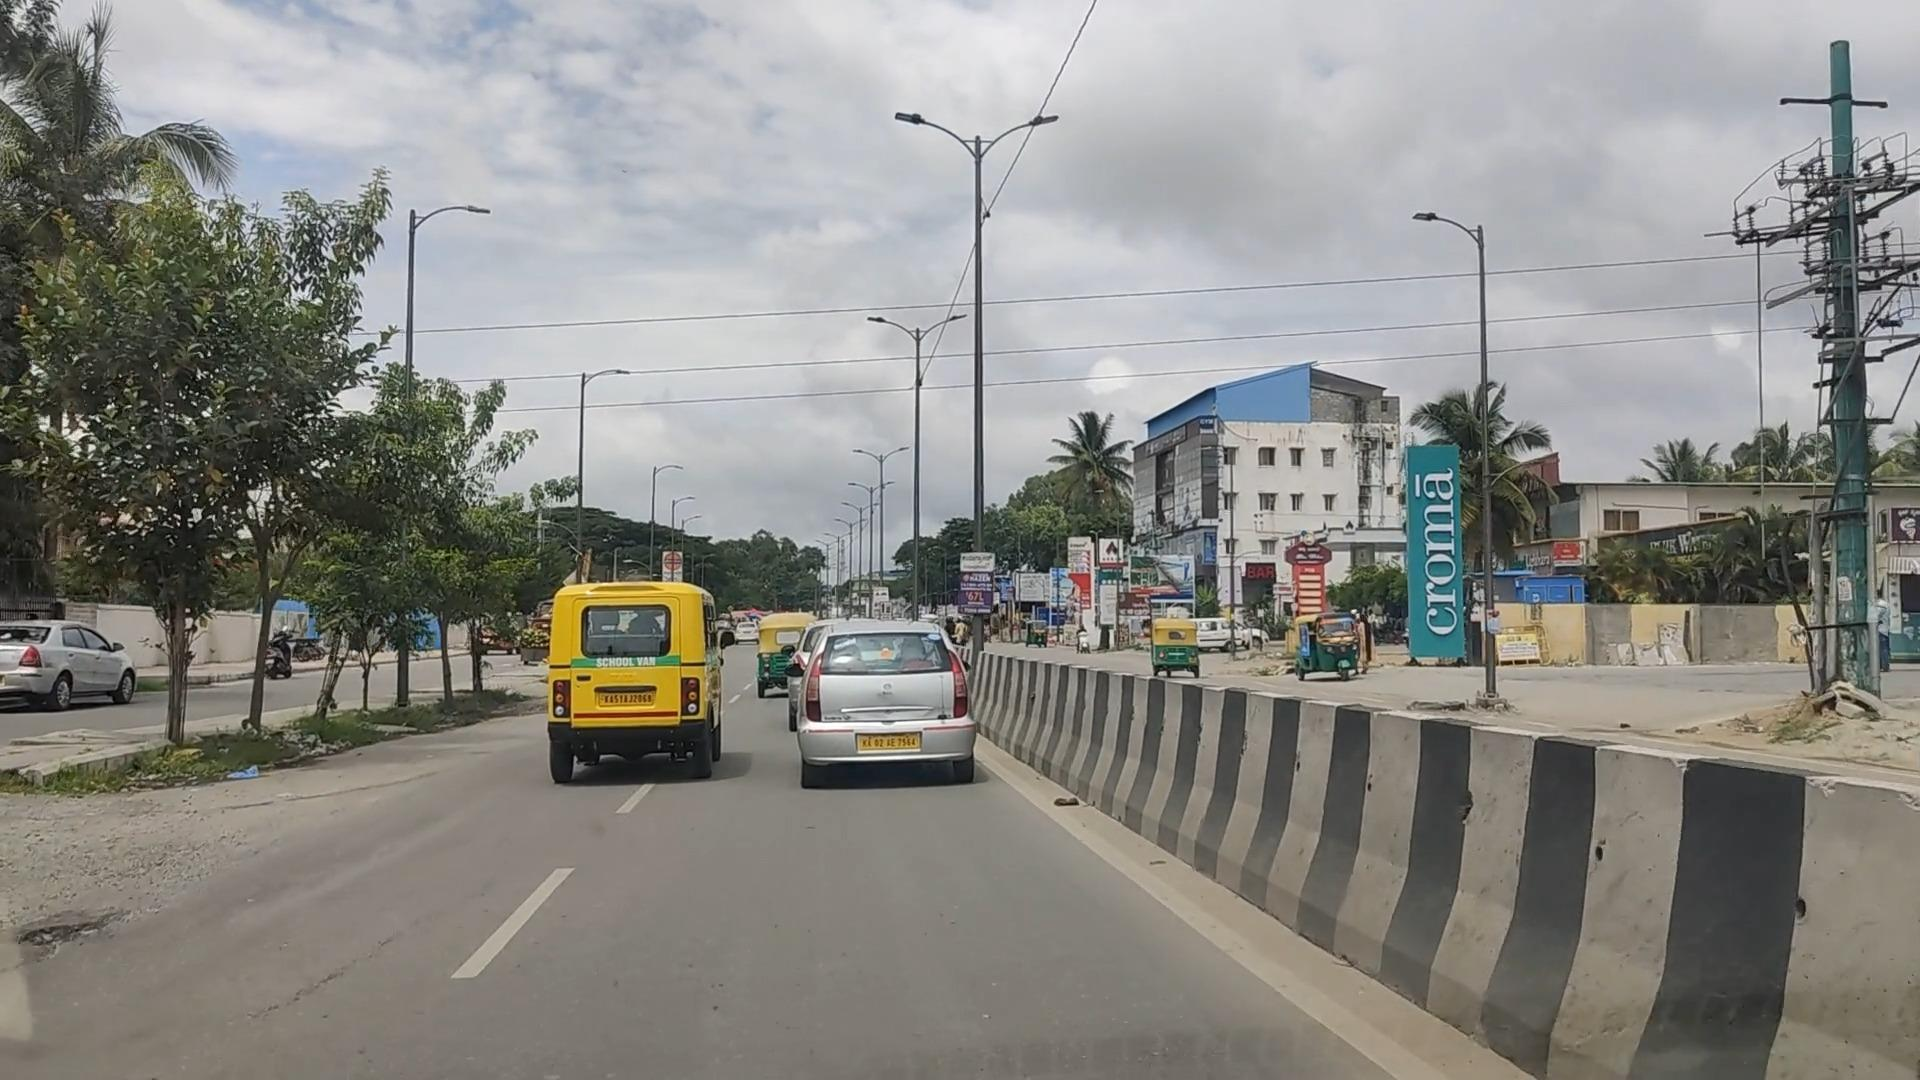LMV: (529, 589, 742, 783), (766, 618, 980, 806)
RoadDamages: (5, 907, 145, 968)
